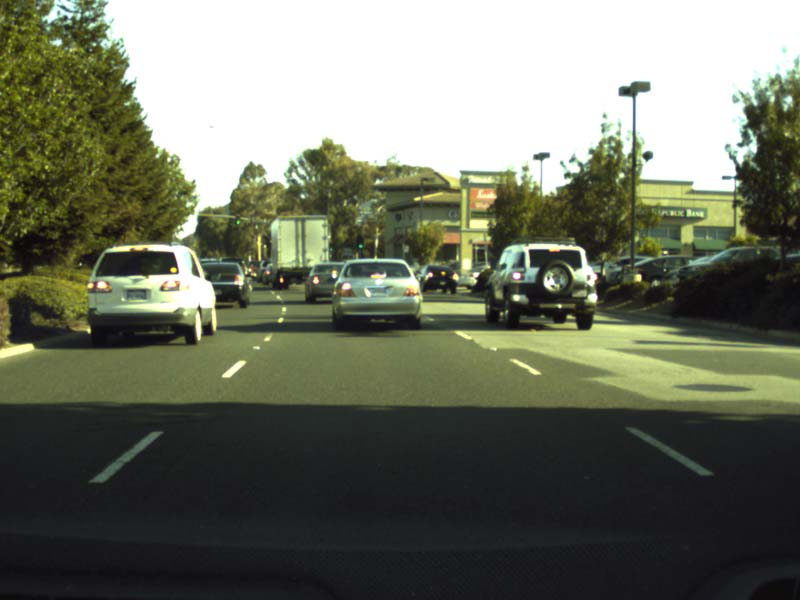Green: (357, 235, 363, 249), (235, 213, 239, 225)
